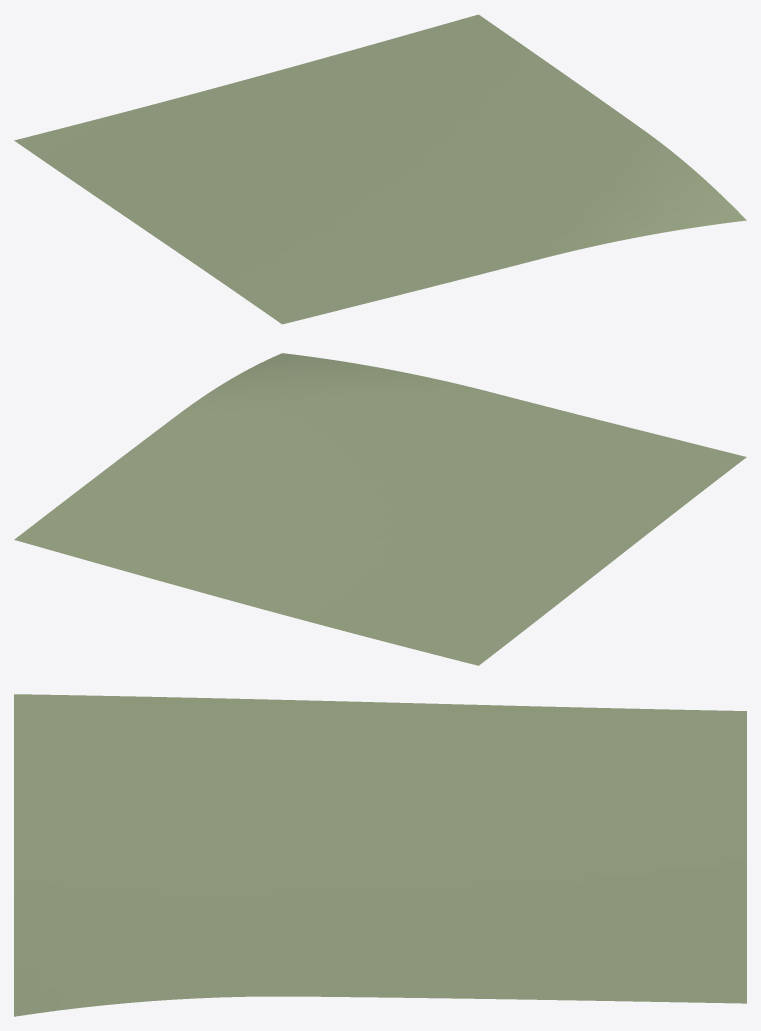
Rendered from expanse-21-7.glb.
3 renders of one model, top to bottom at view 1: azimuth 30°, elevation 25°; view 2: azimuth 150°, elevation 25°; view 3: azimuth 270°, elevation 25°, orthographic. The views are drawn at different scales.
Visible parts, largest first — view 1: expanse-21-7; view 2: expanse-21-7; view 3: expanse-21-7.
Part boxes in pixels (x1=…): expanse-21-7: x1=14, y1=14, x2=746, y2=324; expanse-21-7: x1=14, y1=353, x2=746, y2=665; expanse-21-7: x1=14, y1=694, x2=746, y2=1016.
Size of the model in its own units: 256 by 9.39 by 256.
